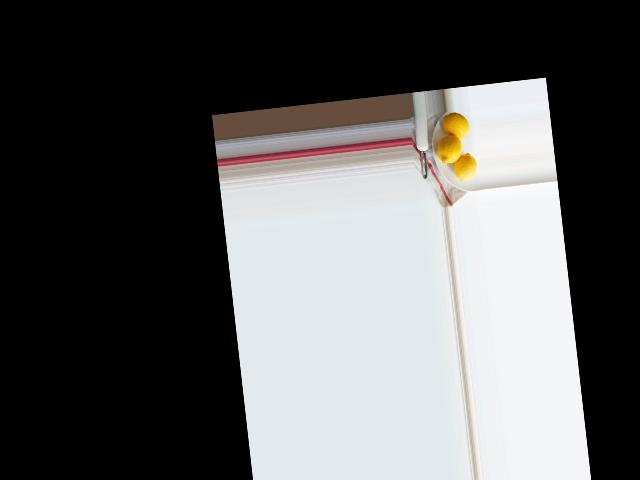lemon: (443, 108, 470, 140)
